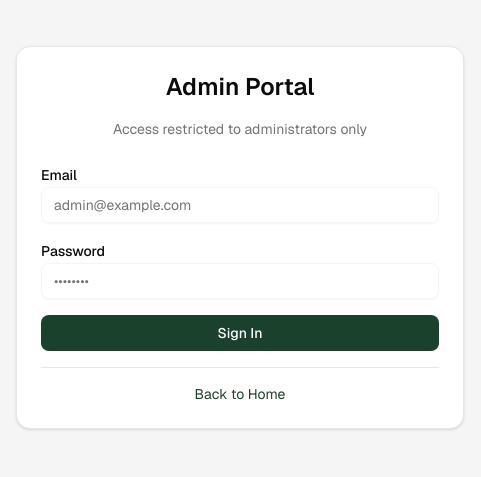
Test: AdminLoginPage › Test Case 1: Handles invalid credentials and returns error message › should display error message when credentials are invalid
In the field with placeholder "admin@example.com": (240, 204) [41, 186, 439, 222], type "wrong@example.com"
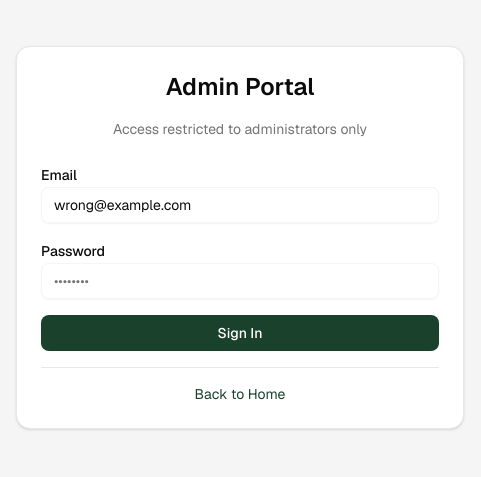
In the password field with placeholder "••••••••": (240, 280) [41, 262, 439, 298], type "wrongpassword"
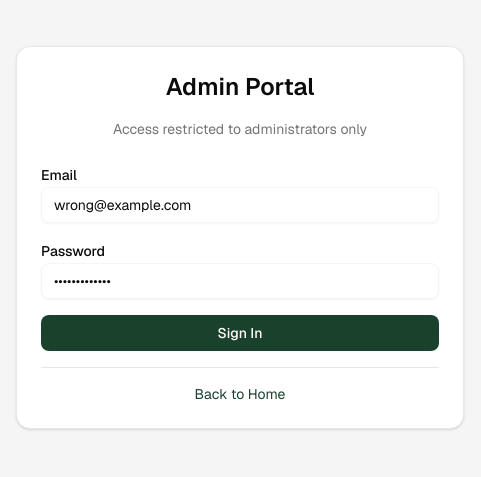
Click the button "Sign In": (240, 332) [41, 314, 439, 350]
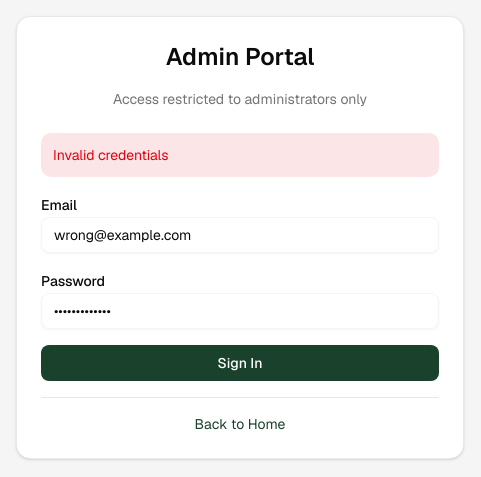
Expected: the text "Invalid credentials" is shown, [41, 132, 439, 176]
